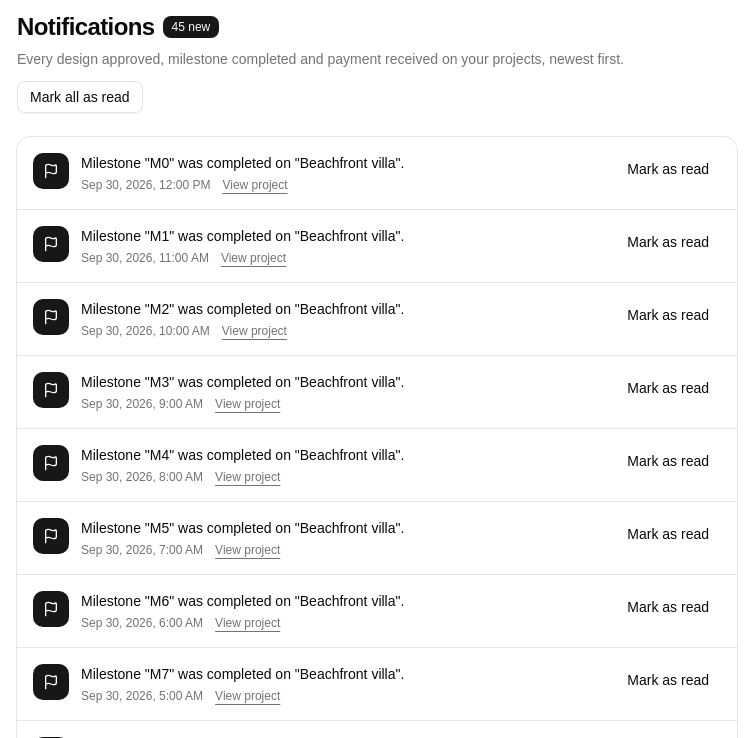
NotificationsPage › marking read › marks them all read — including pages not loaded yet — and drops the badge and the button
This screenshot has width=755, height=738.
Click the button "Mark all as read".
click(80, 97)  # box [17, 81, 143, 113]
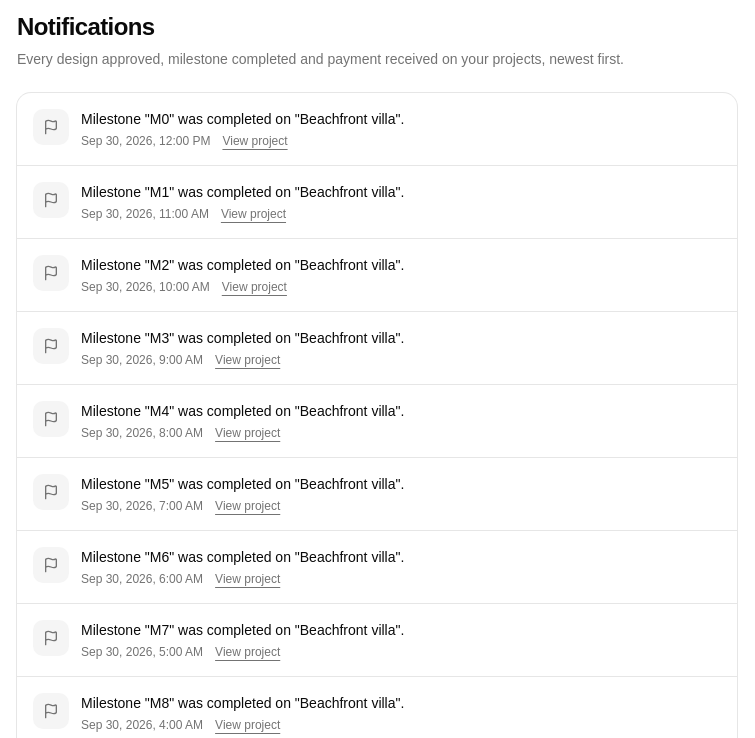
Now the text "45 new" is gone
Now the button "Mark all as read" is gone
Now the button "Mark as read" is gone
